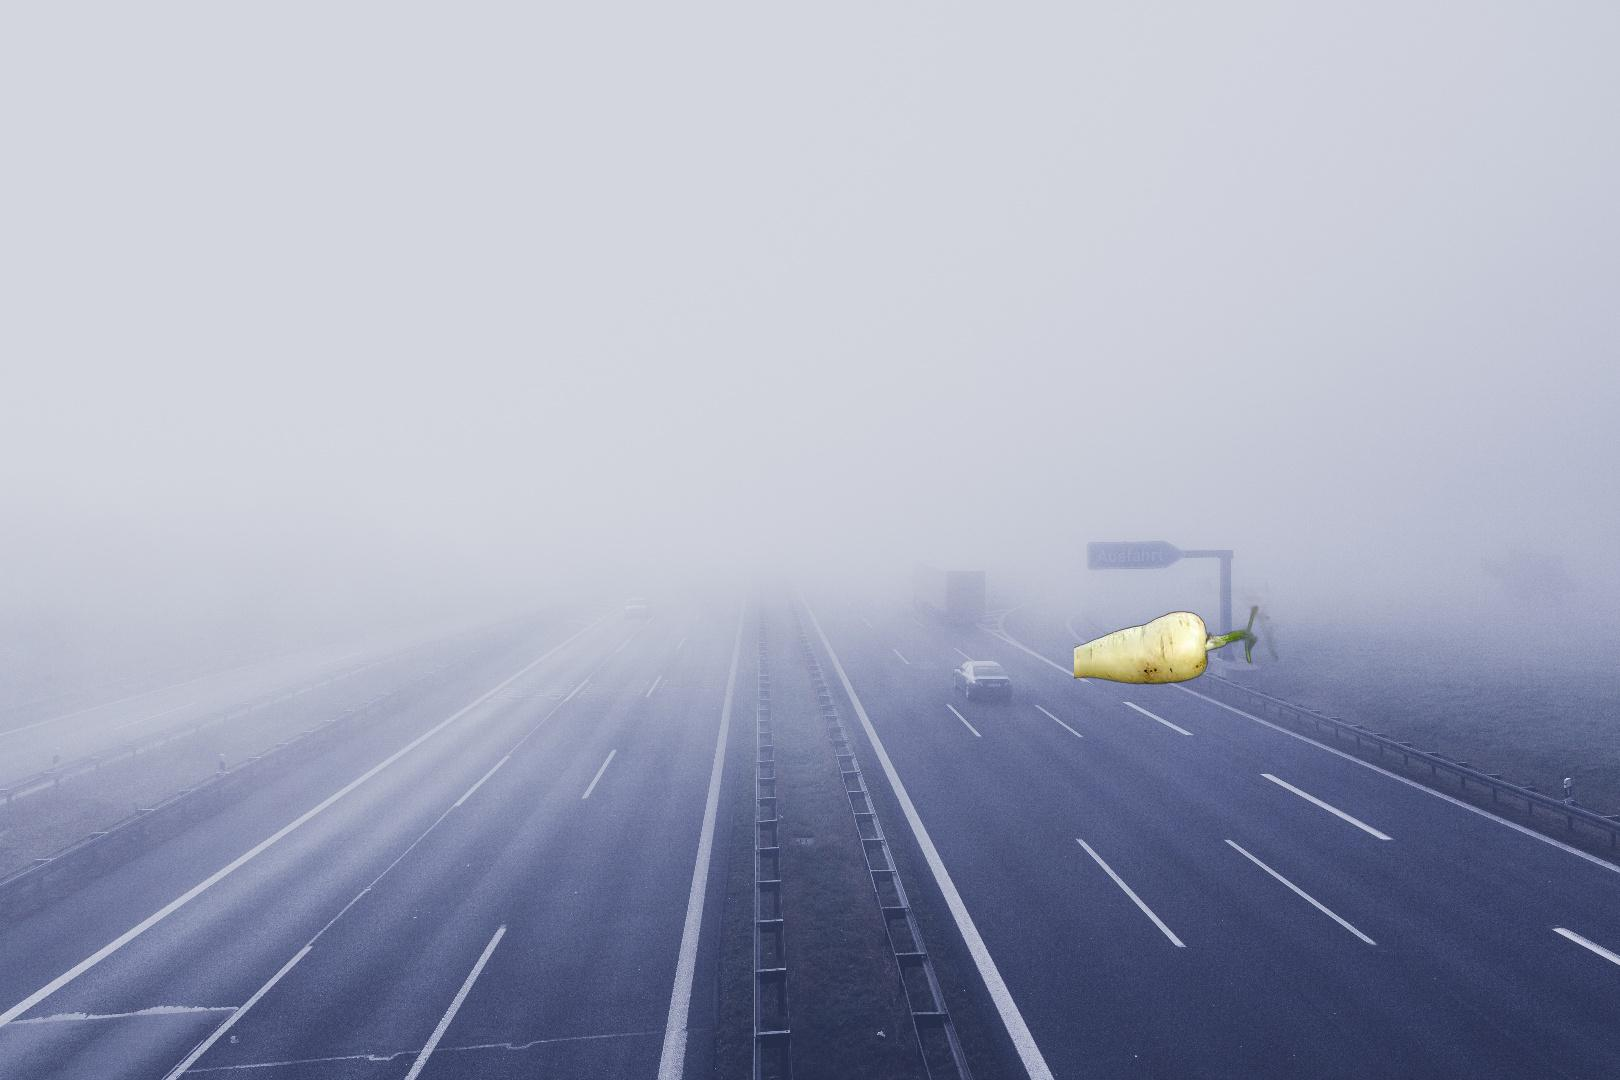biological: (1074, 575, 1278, 687)
